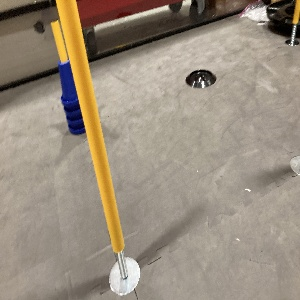Blue_4: (58, 59, 86, 134)
